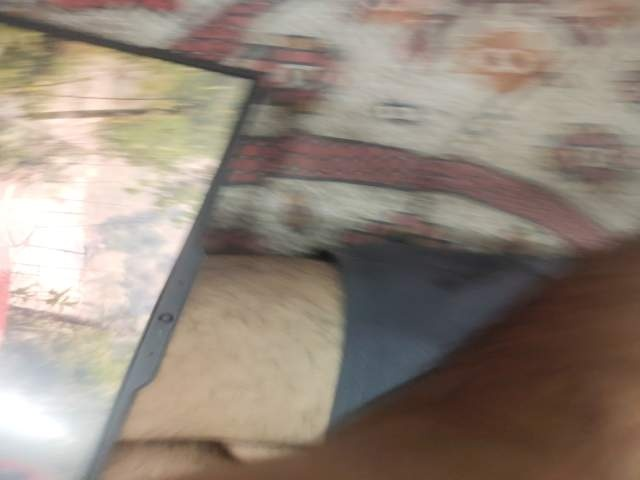pothole: (404, 312, 504, 392)
